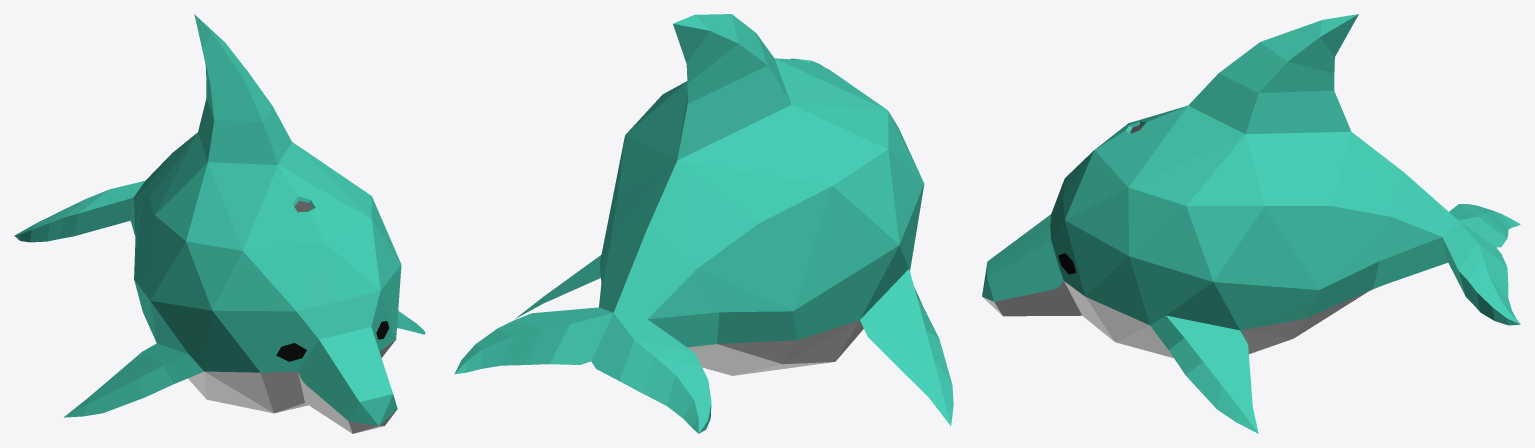
The model's file is dolphin.glb.
3 views of the same model, side by side, from view 1: azimuth 30°, elevation 25°; view 2: azimuth 150°, elevation 25°; view 3: azimuth 270°, elevation 25° (orthographic). The views are drawn at different scales.
Parts seen in each view (by area): view 1: Dolphin; view 2: Dolphin; view 3: Dolphin.
Boxes of the visible parts, <box> form: Dolphin: <box>14,14,425,433</box>; Dolphin: <box>454,14,953,433</box>; Dolphin: <box>982,14,1520,433</box>.
Bounding box in the file's own units: 13.3 × 11.71 × 16.9.
4 materials, 2 textured.
